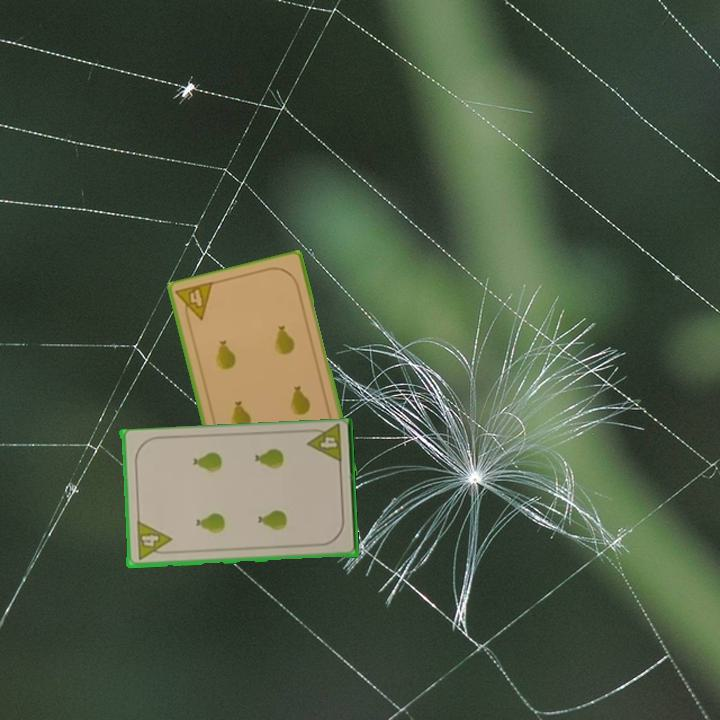4p: (172, 278, 216, 328), (303, 423, 345, 468), (133, 519, 174, 563)
